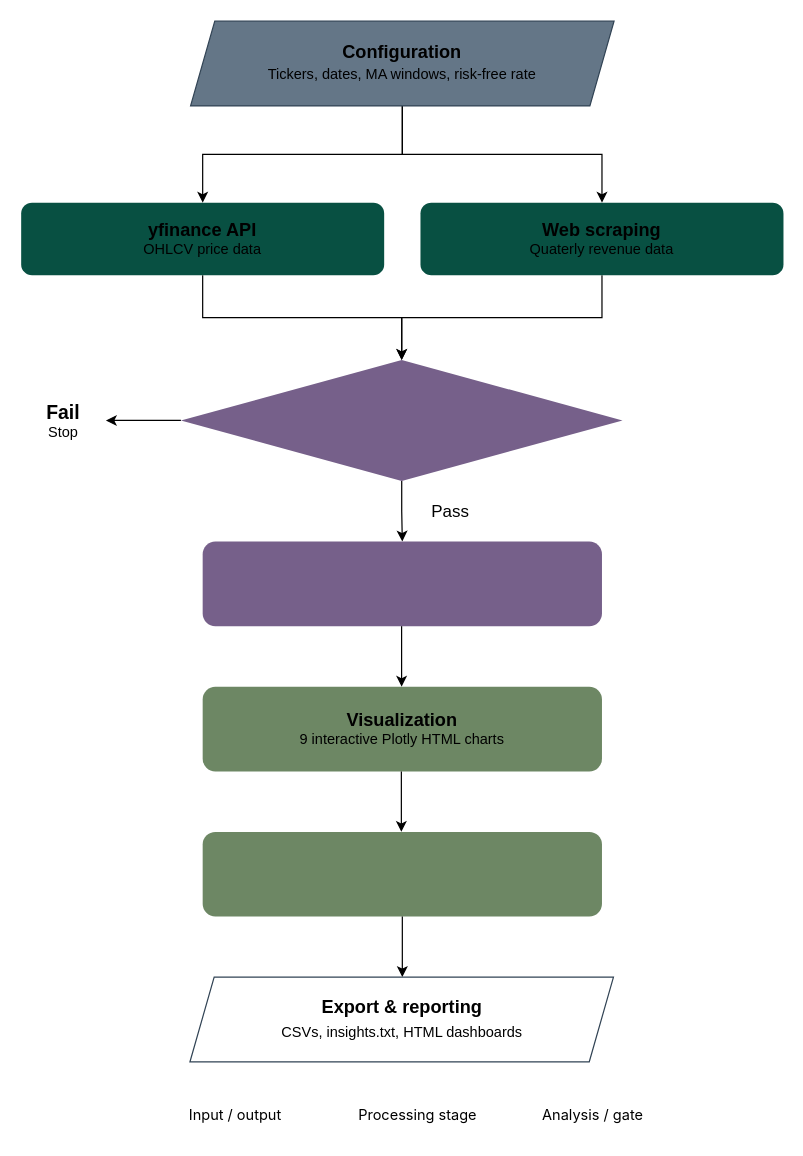
Image size: 803x1156. Some labels were removed from this diagram. Each missing label, with the centre of its shape:
Insight Generation Plain-language findings written by code: point 401,873
Quantitative Analysis Return, volatility, Sharpe ratio, max drawdown, CAGR: point 401,583
Validation & structuring Missing values, date gaps, invalid records: point 401,419
